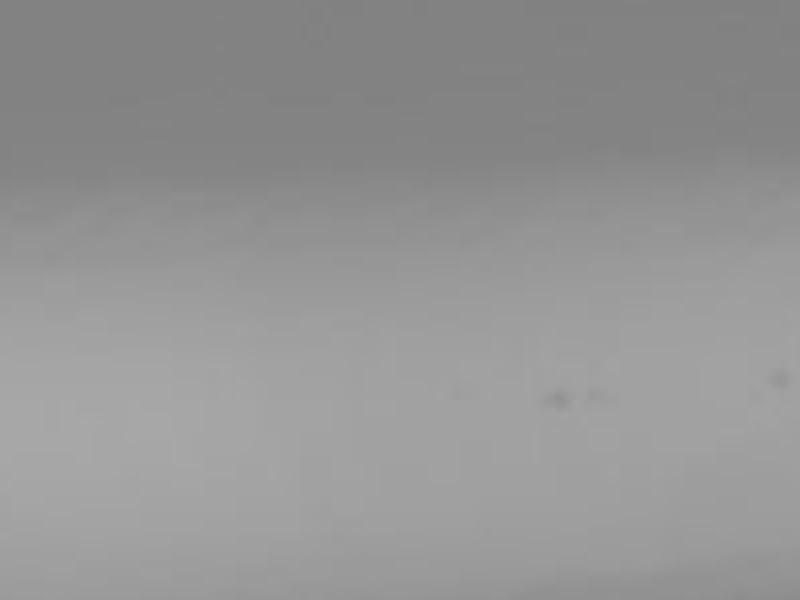defect: (587, 383, 615, 406), (544, 385, 568, 411), (770, 370, 794, 389)
